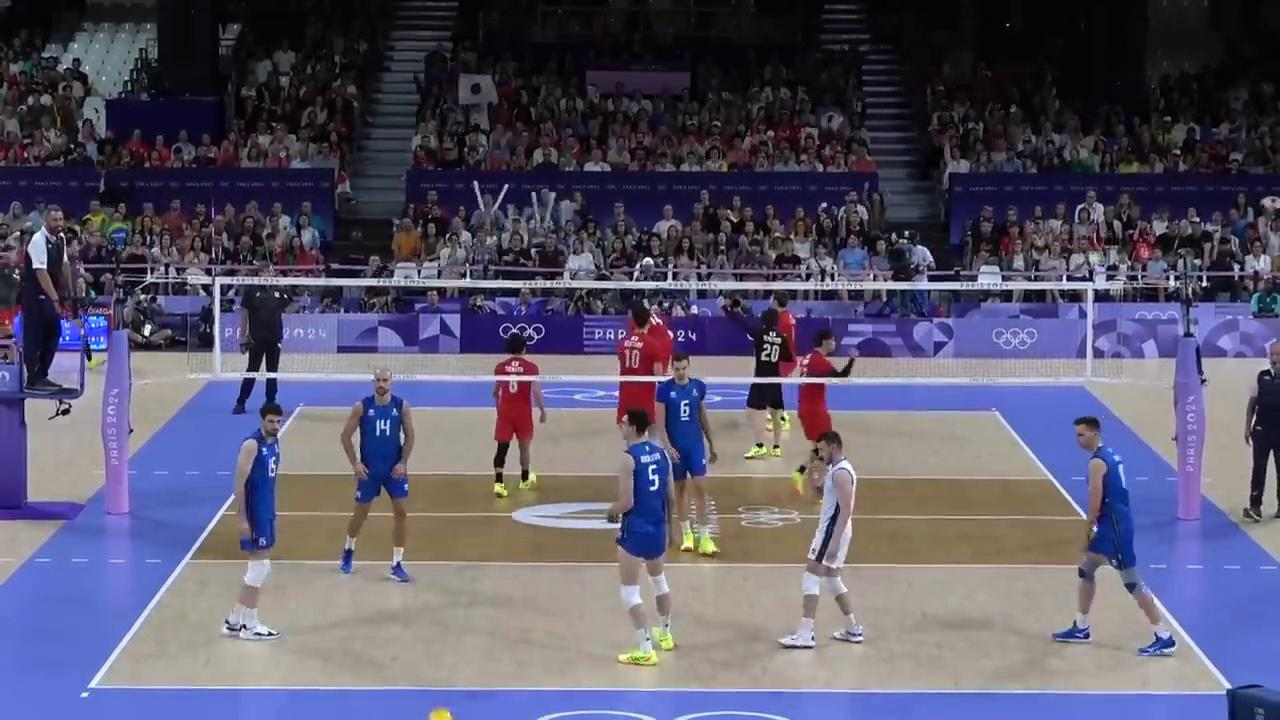ball: (428, 706, 453, 720)
